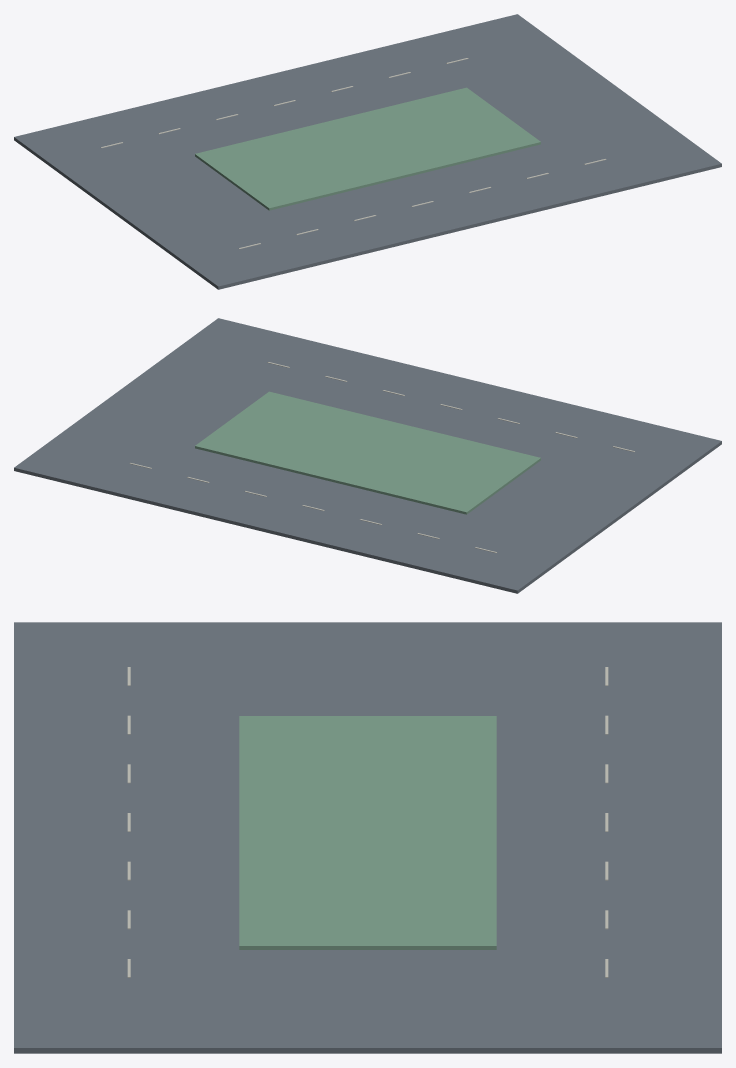
Rendered from visuals.glb.
The picture shows the model from 3 angles, top to bottom: view 1: azimuth 30°, elevation 25°; view 2: azimuth 150°, elevation 25°; view 3: azimuth 270°, elevation 25°; orthographic projection. The views are drawn at different scales.
Parts seen in each view (by area): view 1: Track asphalt, Center island; view 2: Track asphalt, Center island; view 3: Track asphalt, Center island.
Part boxes in pixels (box(x1,y1,x2,y2)): Track asphalt: box(14, 14, 721, 289); Center island: box(195, 87, 540, 210); Track asphalt: box(14, 318, 721, 593); Center island: box(195, 391, 540, 514); Track asphalt: box(14, 622, 721, 1053); Center island: box(239, 716, 496, 949).
Size of the model in its own units: 35 by 0.38 by 24.6.
